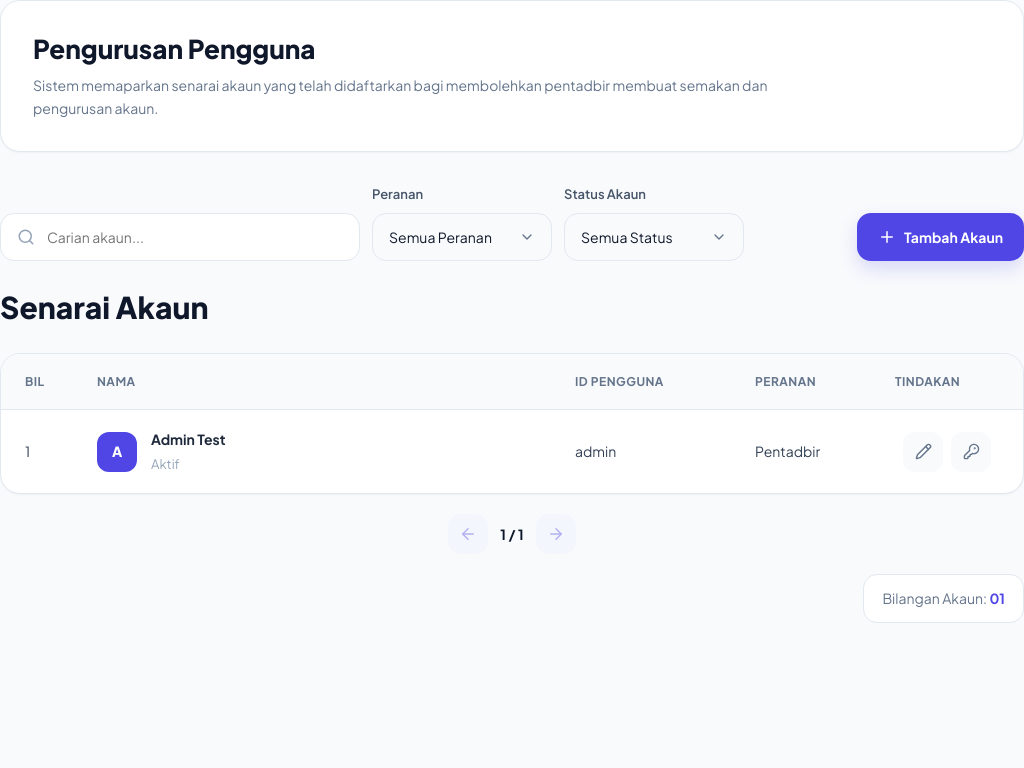
Test: PengurusanAkaun.vue › membuka modal toggle status
The width and height of the screenshot is (1024, 768).
Click the 1st button with class "ui-icon-button".
click(923, 452)  # box [903, 432, 943, 472]
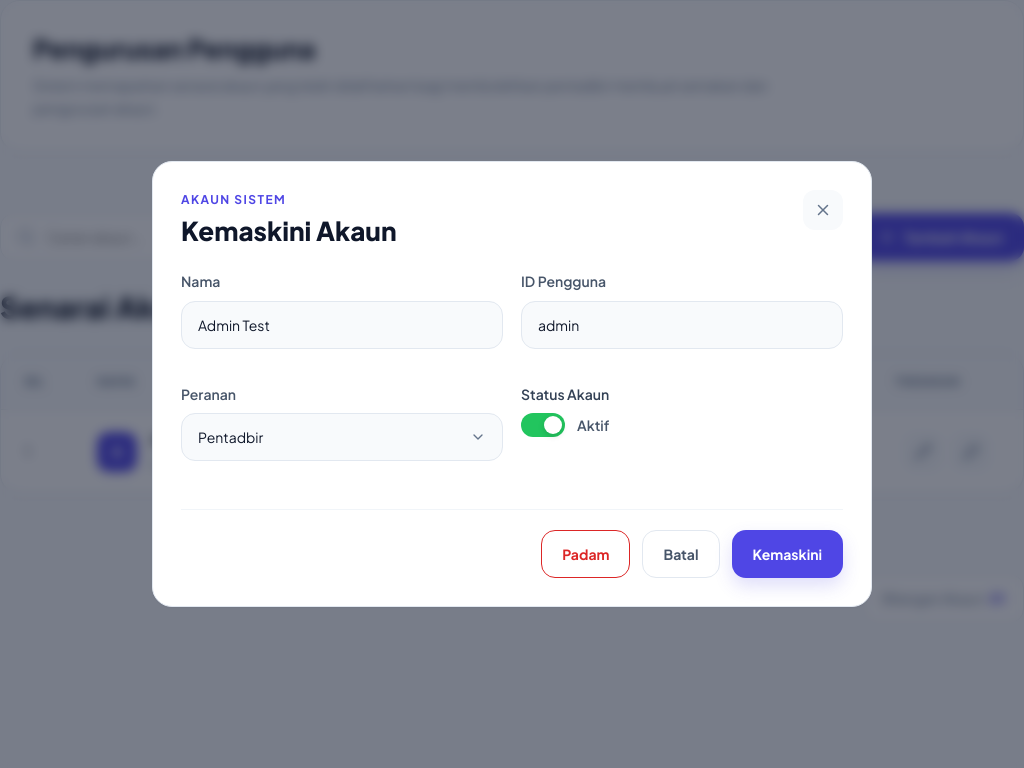
Click the checkbox.
click(543, 425)  # box [521, 413, 565, 437]
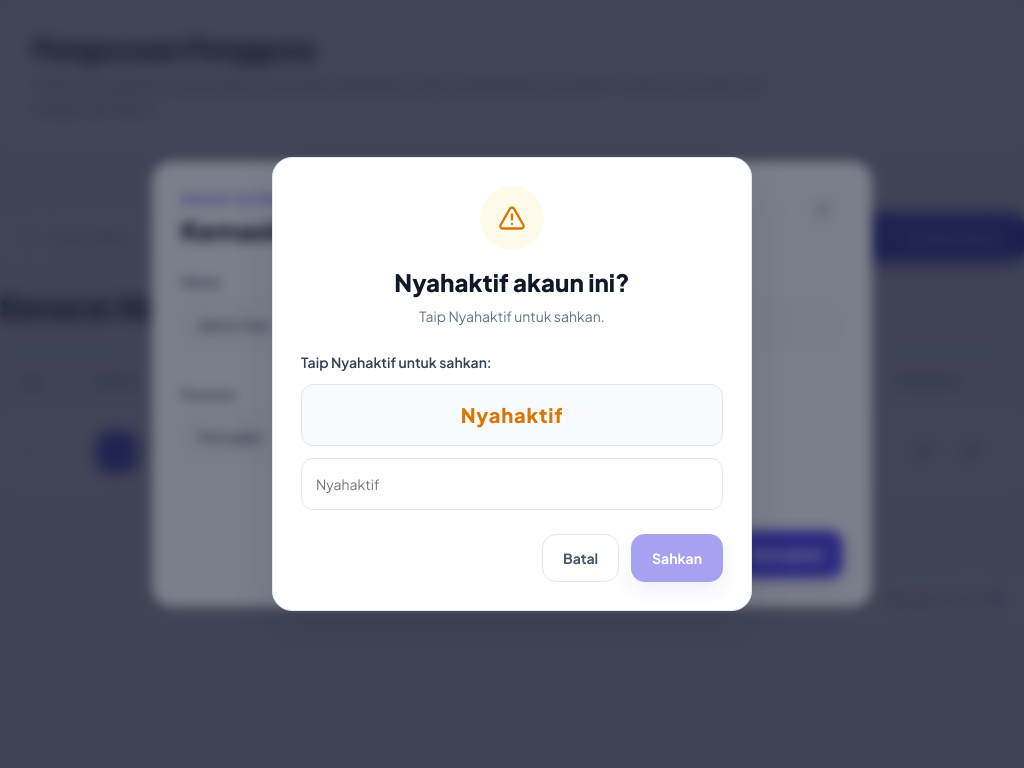
Check: the text "Nyahaktif" is shown, box [394, 267, 630, 297]
